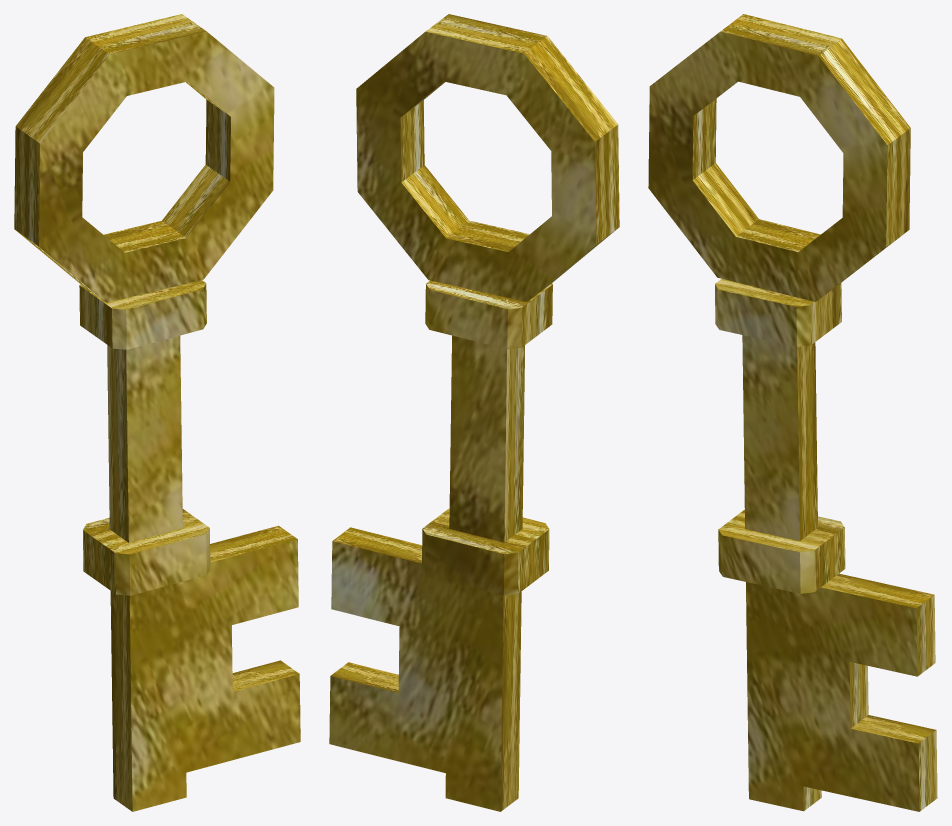
Rendered from Key.FBX.
3 views of the same model, side by side, from view 1: azimuth 30°, elevation 25°; view 2: azimuth 150°, elevation 25°; view 3: azimuth 330°, elevation 25° (orthographic).
Parts seen in each view (by area): view 1: Tube001; view 2: Tube001; view 3: Tube001.
Boxes of the visible parts, x1=… form: Tube001: x1=14, y1=14, x2=300, y2=811; Tube001: x1=329, y1=14, x2=619, y2=811; Tube001: x1=648, y1=14, x2=937, y2=811.
Bounding box in the file's own units: 29.76 × 81.42 × 8.25.
Materials: 1 (1 with a texture image).
